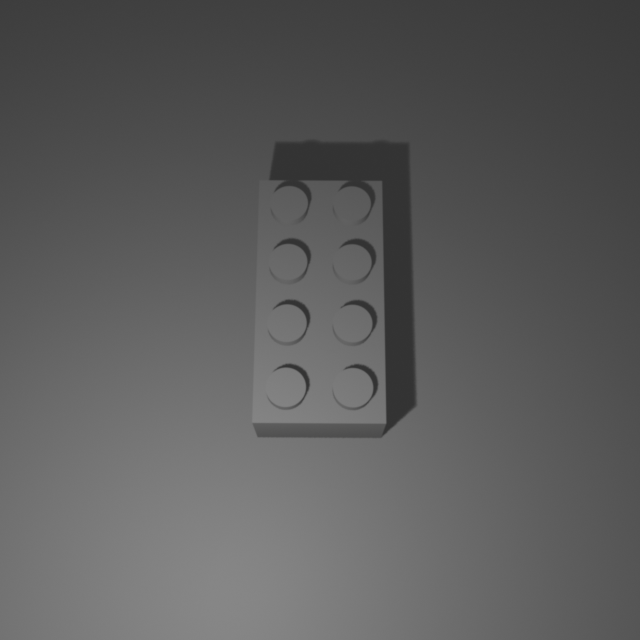lego_2x4: (251, 175, 387, 438)
